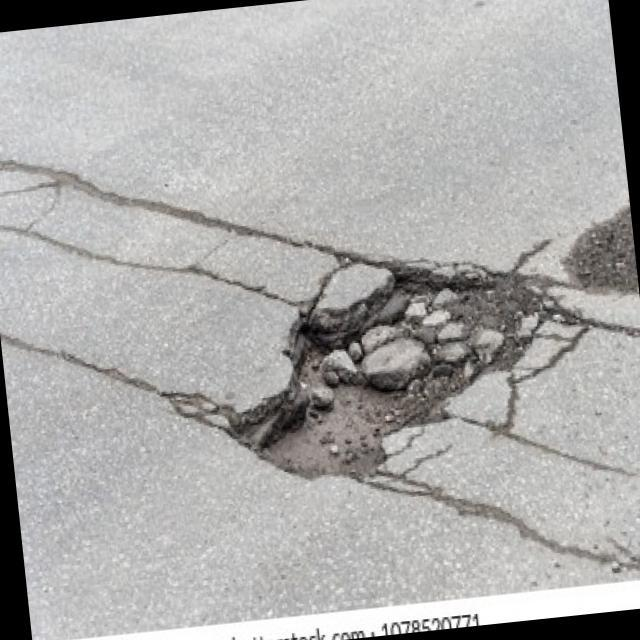Pothole: (210, 246, 568, 491)
